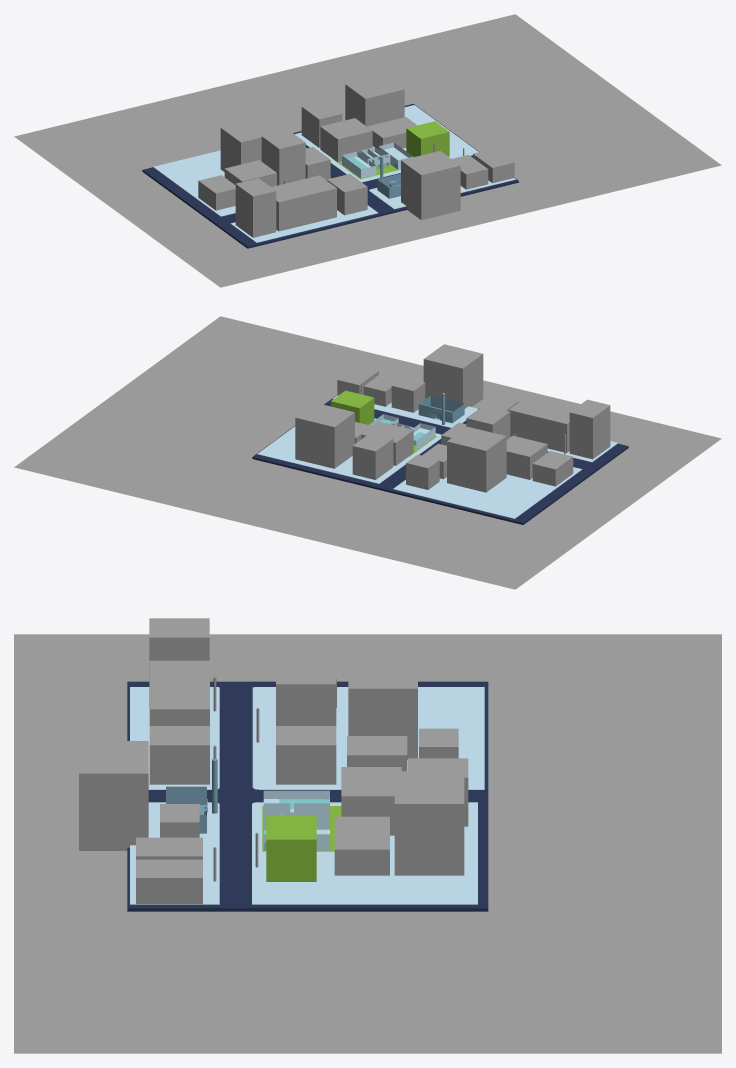
The model's file is GameWorld.fbx.
3 renders of one model, top to bottom at view 1: azimuth 30°, elevation 25°; view 2: azimuth 150°, elevation 25°; view 3: azimuth 270°, elevation 25°, orthographic. The views are drawn at different scales.
Parts seen in each view (by area): view 1: pPlane14, pCube110, pCube93, pCube100, pCube104, pCube102, pCube111, pCube97, pCube92, pCube103, pPlane13, pCube89 (+12 smaller); view 2: pPlane14, pCube93, pCube92, pCube111, pCube104, pCube110, pCube100, pCube102, pCube89, pCube96, pCube98, pCube101 (+10 smaller); view 3: pPlane14, pCube93, pCube89, pCube92, pCube110, pCube104, pCube111, pCube100, pCube97, pCube94, pCube99, pCube106 (+13 smaller).
Boxes of the visible parts, x1=… form: pPlane14: x1=14, y1=14, x2=721, y2=287; pCube110: x1=401, y1=151, x2=460, y2=220; pCube93: x1=142, y1=103, x2=518, y2=248; pCube100: x1=271, y1=175, x2=336, y2=231; pCube104: x1=345, y1=74, x2=404, y2=126; pCube102: x1=235, y1=178, x2=276, y2=237; pCube111: x1=220, y1=118, x2=278, y2=171; pCube97: x1=261, y1=130, x2=305, y2=185; pCube92: x1=153, y1=150, x2=330, y2=216; pCube103: x1=320, y1=118, x2=372, y2=162; pPlane13: x1=342, y1=142, x2=413, y2=178; pCube89: x1=294, y1=105, x2=478, y2=182; pPlane14: x1=14, y1=316, x2=721, y2=589; pCube93: x1=252, y1=395, x2=628, y2=524; pCube92: x1=393, y1=467, x2=582, y2=518; pCube111: x1=447, y1=426, x2=506, y2=492; pCube104: x1=295, y1=403, x2=354, y2=468; pCube110: x1=423, y1=344, x2=483, y2=408; pCube100: x1=508, y1=397, x2=574, y2=452; pCube102: x1=569, y1=399, x2=610, y2=459; pCube89: x1=257, y1=418, x2=441, y2=483; pCube96: x1=352, y1=433, x2=393, y2=479; pCube98: x1=506, y1=435, x2=547, y2=479; pCube101: x1=532, y1=451, x2=573, y2=486; pPlane14: x1=14, y1=634, x2=721, y2=1053; pCube93: x1=127, y1=681, x2=488, y2=911; pCube89: x1=252, y1=802, x2=477, y2=904; pCube92: x1=252, y1=687, x2=484, y2=789; pCube110: x1=79, y1=741, x2=148, y2=850; pCube104: x1=394, y1=771, x2=464, y2=875; pCube111: x1=348, y1=656, x2=417, y2=759; pCube100: x1=149, y1=660, x2=209, y2=725; pCube97: x1=276, y1=662, x2=336, y2=725; pCube94: x1=276, y1=726, x2=336, y2=784; pCube99: x1=149, y1=726, x2=209, y2=784; pCube106: x1=266, y1=815, x2=316, y2=881.
Size of the model in its own units: 2868 by 381 by 2046.
